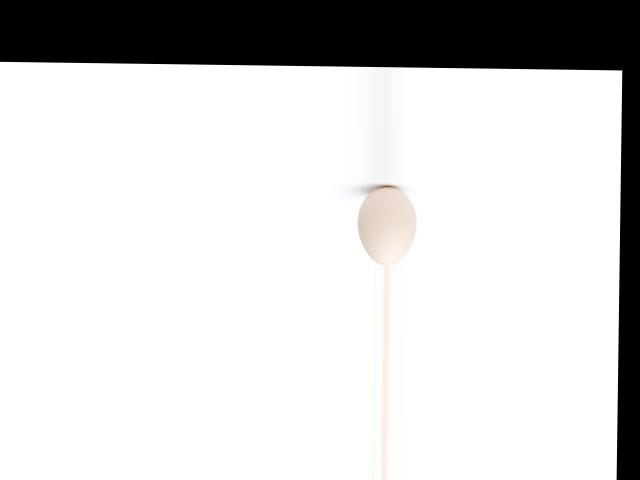egg: (357, 185, 417, 265)
